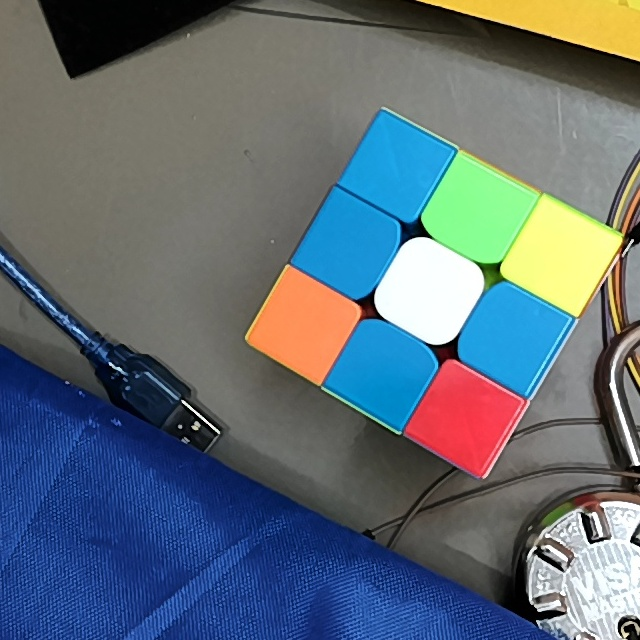tile: (444, 181, 507, 242), (481, 307, 544, 368), (274, 293, 335, 354), (399, 261, 459, 323), (530, 225, 590, 284), (321, 214, 380, 274), (367, 138, 428, 196), (436, 391, 498, 446), (355, 338, 412, 397)
